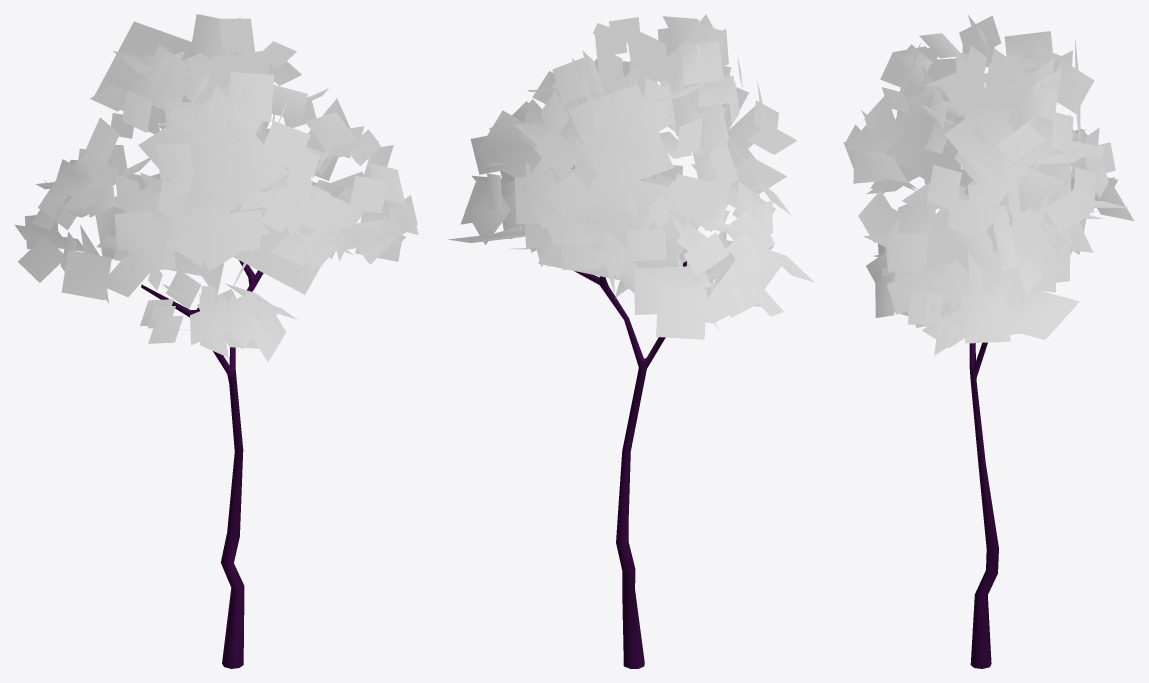
Rendered from m_TreeHigh1_LOD2.fbx.
The picture shows the model from 3 angles, left to right: view 1: azimuth 30°, elevation 25°; view 2: azimuth 150°, elevation 25°; view 3: azimuth 270°, elevation 25°; orthographic projection. The views are drawn at different scales.
Visible parts, largest first — view 1: TreeHigh1_LOD2; view 2: TreeHigh1_LOD2; view 3: TreeHigh1_LOD2.
Boxes of the visible parts, box(x1,y1,x2,y2) form: TreeHigh1_LOD2: box(14, 14, 418, 668); TreeHigh1_LOD2: box(448, 14, 814, 668); TreeHigh1_LOD2: box(843, 14, 1134, 668).
Size of the model in its own units: 1824 by 3278 by 1396.
